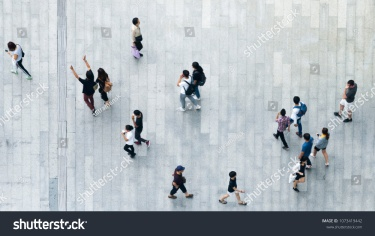person: (68, 54, 97, 117), (333, 78, 360, 124), (4, 41, 34, 81), (218, 169, 249, 207), (166, 164, 197, 201), (176, 69, 202, 112), (271, 108, 293, 152), (130, 108, 153, 149), (95, 67, 116, 109), (128, 16, 146, 60), (289, 156, 310, 193), (287, 95, 305, 138), (313, 127, 331, 168), (190, 60, 207, 103), (120, 124, 138, 159), (298, 132, 315, 169)
